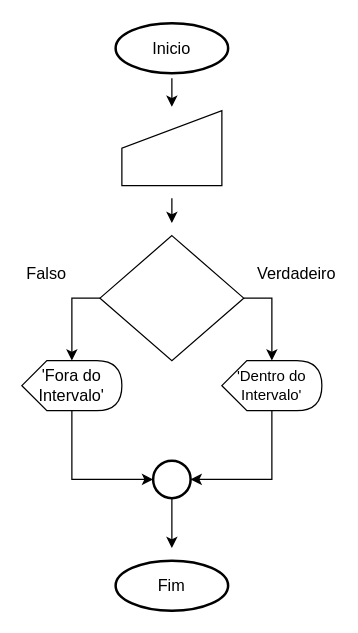
Some shapes in this 358 by 633 pixel diagram are drawn without their labels. Each missing label, with the centre of its shape:
"30 < Numero < 70" goes at point (171, 297).
"Numero (Float)" goes at point (171, 147).
